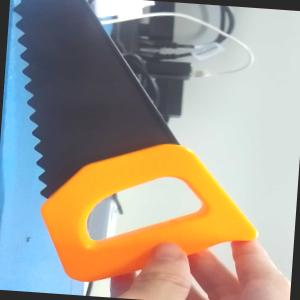serrote: (0, 0, 275, 280)
